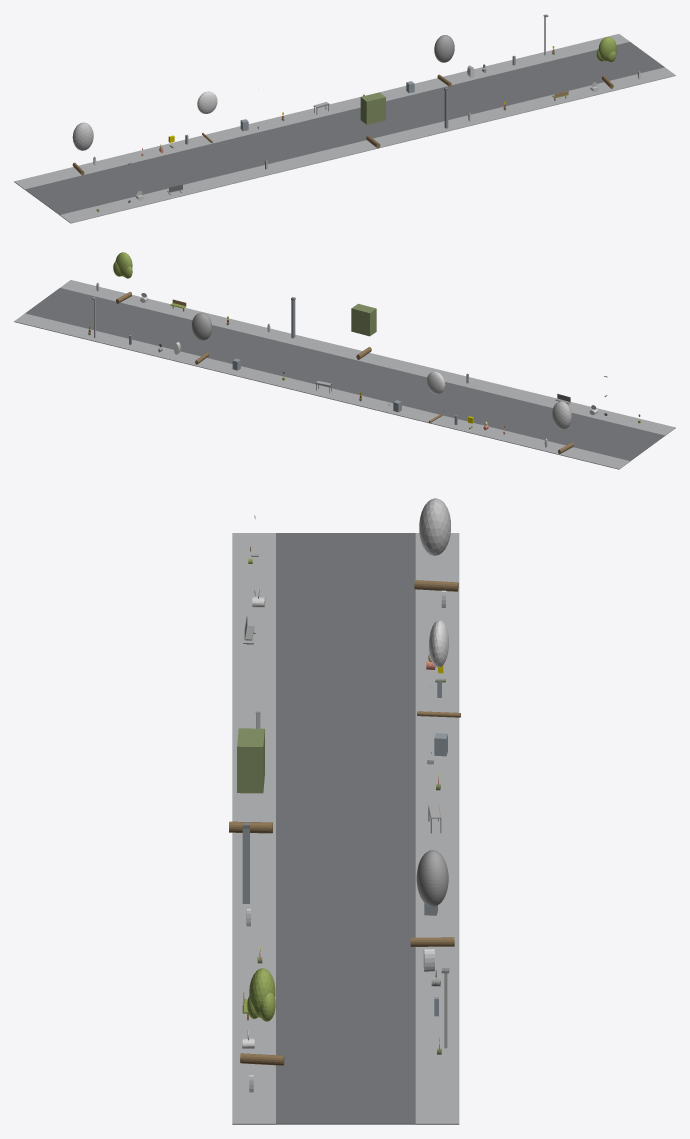
The picture shows the model from 3 angles, top to bottom: view 1: azimuth 30°, elevation 25°; view 2: azimuth 150°, elevation 25°; view 3: azimuth 270°, elevation 25°; orthographic projection. The views are drawn at different scales.
Parts seen in each view (by area): view 1: road_slab, sidewalk_left, sidewalk_right, inst_0014, inst_0012, inst_0015, inst_0016, inst_0013; view 2: road_slab, sidewalk_right, sidewalk_left, inst_0014, inst_0012, inst_0015, inst_0016, inst_0013; view 3: road_slab, sidewalk_right, sidewalk_left, inst_0014, inst_0012, inst_0015, inst_0016, inst_0013.
Boxes of the visible parts, left/top/right/bottom form: road_slab: left=25, top=42, right=664, bottom=215; sidewalk_left: left=60, top=67, right=675, bottom=223; sidewalk_right: left=14, top=34, right=629, bottom=189; inst_0014: left=360, top=92, right=385, bottom=148; inst_0012: left=72, top=122, right=93, bottom=175; inst_0015: left=434, top=35, right=454, bottom=86; inst_0016: left=596, top=37, right=616, bottom=88; inst_0013: left=197, top=91, right=217, bottom=143; road_slab: left=25, top=288, right=664, bottom=461; sidewalk_right: left=14, top=313, right=629, bottom=469; sidewalk_left: left=60, top=280, right=675, bottom=435; inst_0014: left=351, top=303, right=376, bottom=359; inst_0012: left=552, top=401, right=573, bottom=454; inst_0015: left=191, top=312, right=212, bottom=364; inst_0016: left=113, top=252, right=132, bottom=303; inst_0013: left=426, top=371, right=445, bottom=422; road_slab: left=276, top=533, right=415, bottom=1124; sidewalk_right: left=415, top=533, right=459, bottom=1124; sidewalk_left: left=232, top=533, right=275, bottom=1124; inst_0014: left=229, top=728, right=272, bottom=833; inst_0012: left=414, top=498, right=458, bottom=591; inst_0015: left=410, top=850, right=454, bottom=946; inst_0016: left=240, top=968, right=284, bottom=1065; inst_0013: left=417, top=620, right=460, bottom=717.
Size of the model in its own units: 80 by 6.08 by 13.27.
